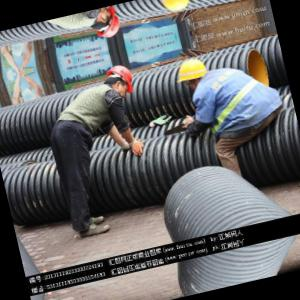helmet: (171, 54, 216, 98), (97, 61, 140, 101), (85, 5, 128, 45), (155, 1, 199, 19)
